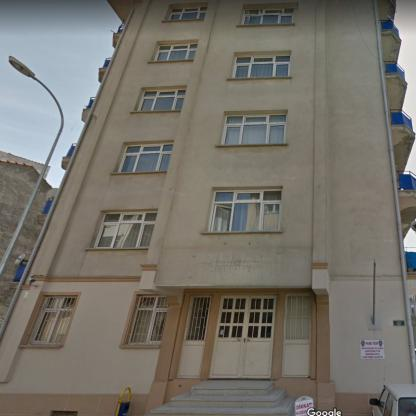door: (210, 295, 277, 378), (177, 296, 211, 378), (282, 294, 310, 378)
window: (209, 191, 281, 231), (28, 296, 77, 344), (94, 212, 156, 248), (126, 296, 168, 344), (221, 113, 286, 144), (118, 143, 172, 172), (232, 55, 290, 77), (138, 90, 186, 110), (241, 8, 294, 25), (153, 43, 197, 62), (168, 7, 206, 20)
